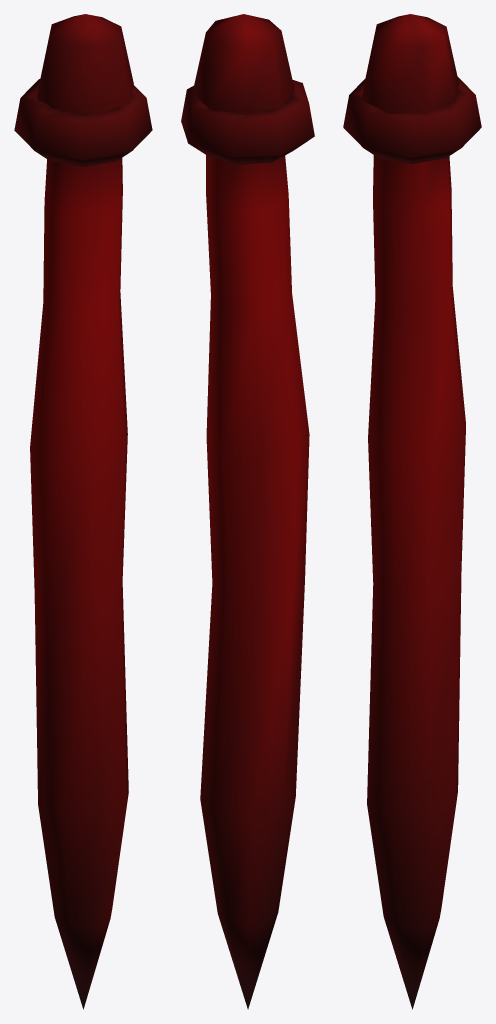
Rendered from WoodenTorch003.glb.
3 renders of one model, left to right at view 1: azimuth 90°, elevation 25°; view 2: azimuth 210°, elevation 25°; view 3: azimuth 270°, elevation 25°, orthographic.
Visible parts, largest first — view 1: WoodenTorch003; view 2: WoodenTorch003; view 3: WoodenTorch003.
Boxes of the visible parts, x1=… form: WoodenTorch003: x1=14, y1=14, x2=152, y2=1009; WoodenTorch003: x1=181, y1=14, x2=314, y2=1009; WoodenTorch003: x1=343, y1=14, x2=481, y2=1009.
Size of the model in its own units: 1.08 by 8.58 by 1.08.
